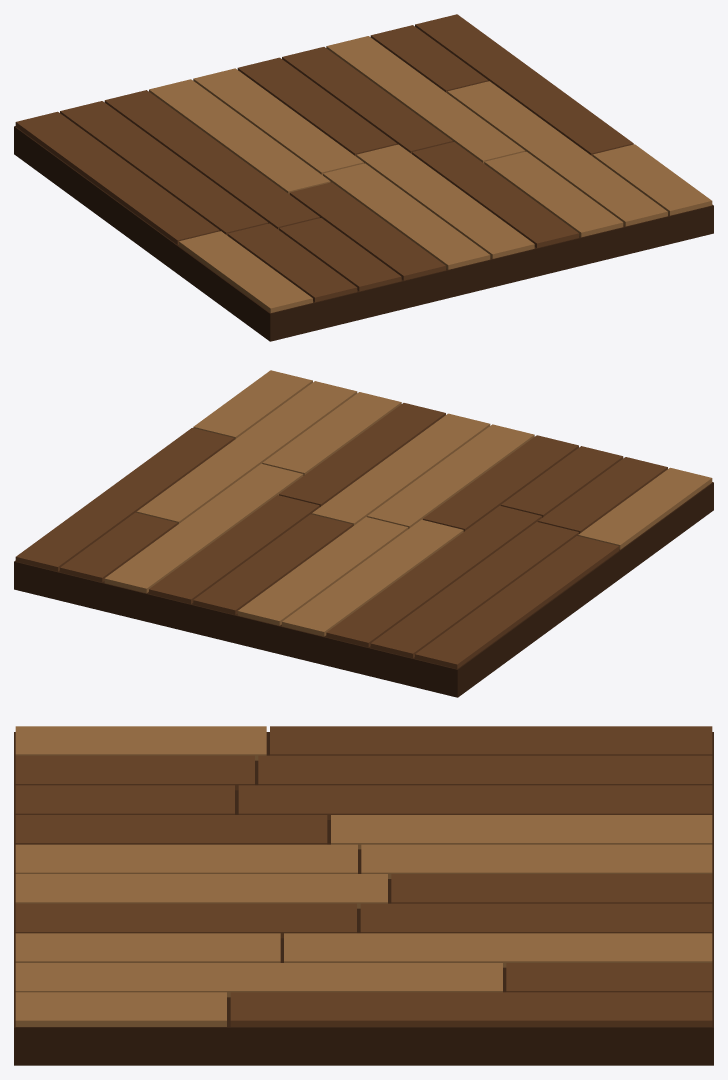
The model's file is SM_Floor_Wood.obj.
The picture shows the model from 3 angles, top to bottom: view 1: azimuth 30°, elevation 25°; view 2: azimuth 150°, elevation 25°; view 3: azimuth 270°, elevation 25°; orthographic projection. The views are drawn at different scales.
Parts seen in each view (by area): view 1: SM_Floor_Wood; view 2: SM_Floor_Wood; view 3: SM_Floor_Wood.
Part boxes in pixels (bbox=[...]): SM_Floor_Wood: bbox=[14, 14, 713, 341]; SM_Floor_Wood: bbox=[14, 370, 713, 697]; SM_Floor_Wood: bbox=[14, 726, 713, 1065].
Bounding box in the file's own units: 2 × 0.14 × 2.
